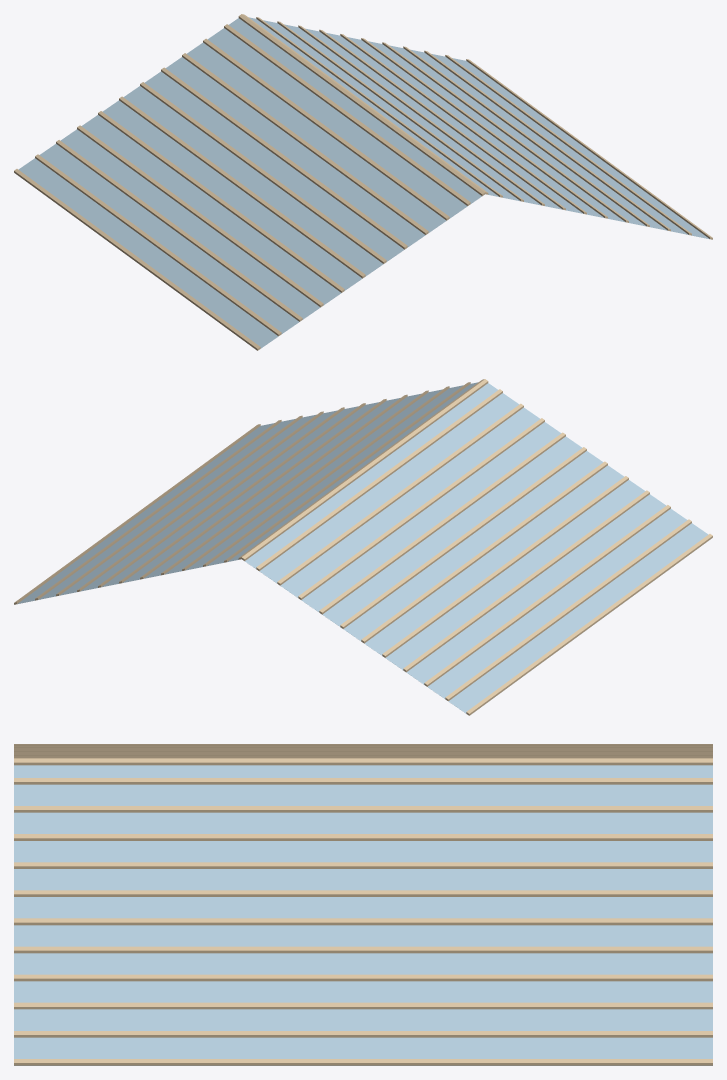
Rendered from stage-4.glb.
3 renders of one model, top to bottom at view 1: azimuth 30°, elevation 25°; view 2: azimuth 150°, elevation 25°; view 3: azimuth 270°, elevation 25°, orthographic. The views are drawn at different scales.
Parts seen in each view (by area): view 1: Geom3D (×2); view 2: Geom3D (×2); view 3: Geom3D (×2).
Boxes of the visible parts, x1,y1,x2,y2 form: Geom3D (×2): (14,14,712,350); Geom3D (×2): (14,379,712,715); Geom3D (×2): (14,744,712,1065).
Size of the model in its own units: 6.88 by 1.49 by 6.38.
